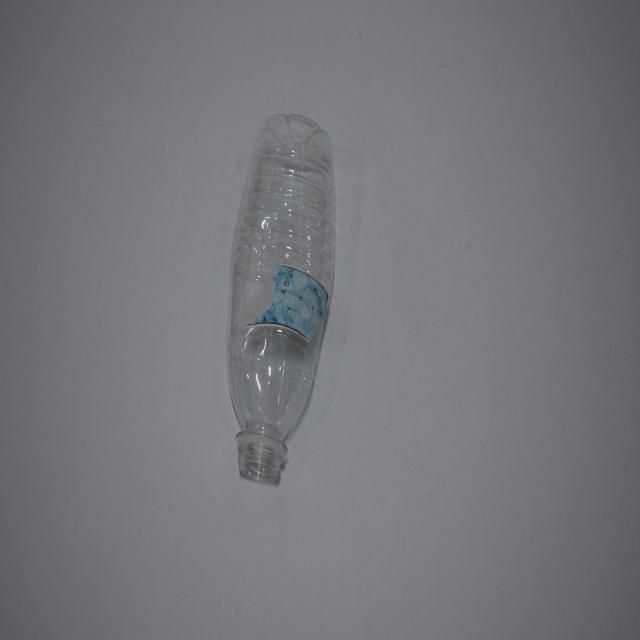bottle: (224, 106, 337, 492)
